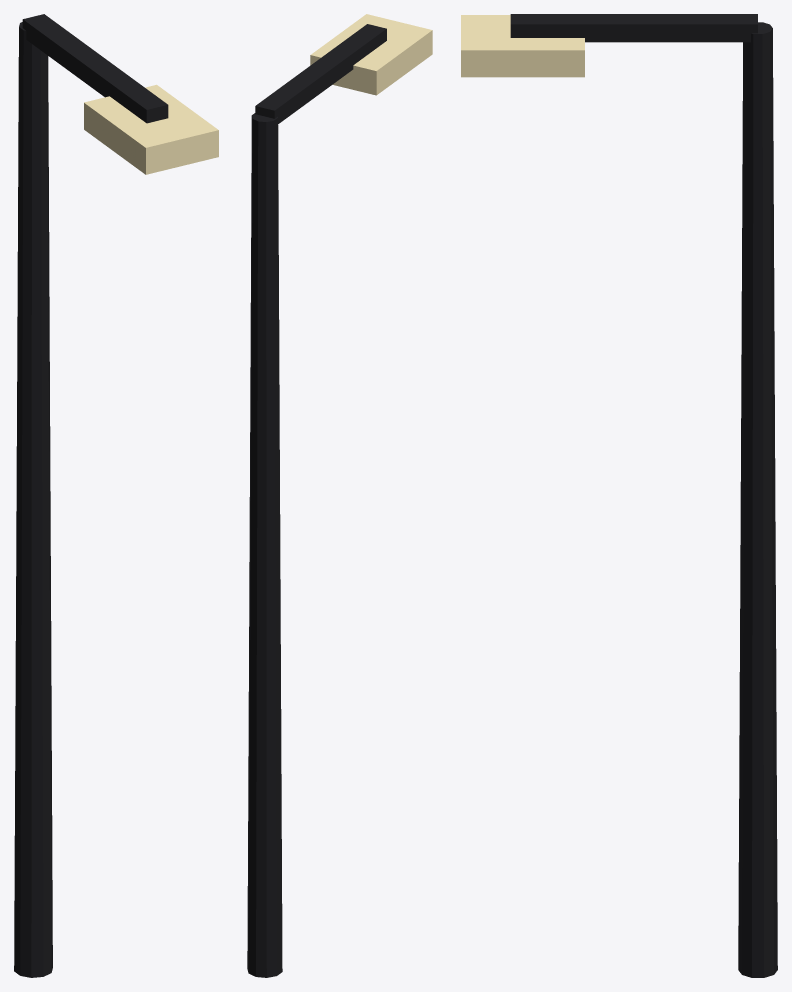
File: lamp_4.glb
3 renders of one model, left to right at view 1: azimuth 30°, elevation 25°; view 2: azimuth 150°, elevation 25°; view 3: azimuth 270°, elevation 25°, orthographic. The views are drawn at different scales.
Parts seen in each view (by area): view 1: lamp4_iron, lamp4_glass; view 2: lamp4_iron, lamp4_glass; view 3: lamp4_iron, lamp4_glass.
Part boxes in pixels (x1,y1,x2,y2): lamp4_iron: (14,14,168,977); lamp4_glass: (84,84,218,174); lamp4_iron: (247,24,386,977); lamp4_glass: (310,14,432,95); lamp4_iron: (510,14,777,977); lamp4_glass: (461,15,584,77).
Size of the model in its own units: 0.34 by 4.24 by 1.28.
